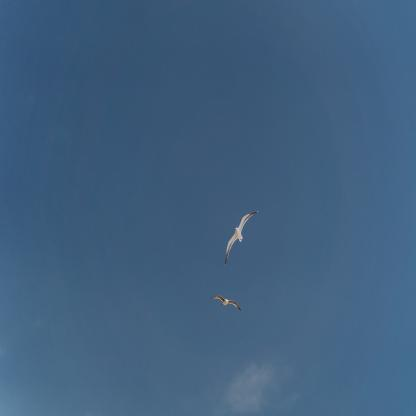bird: (224, 210, 256, 263), (209, 295, 241, 311)
